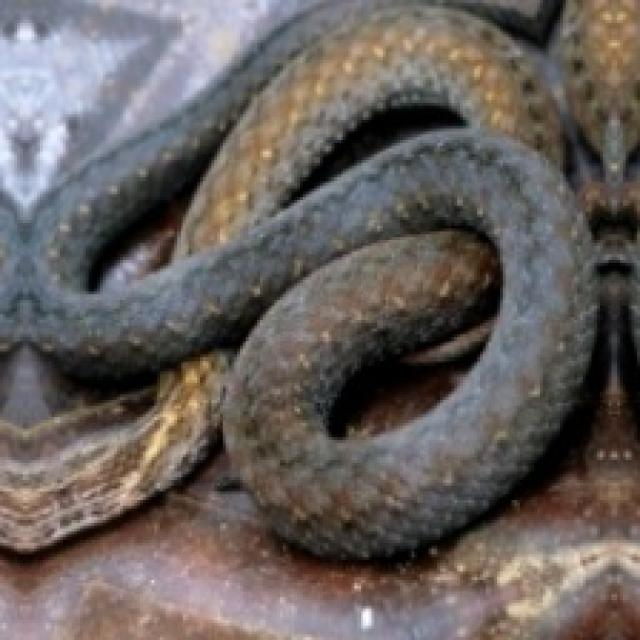reinhardts lined snake: (0, 3, 594, 554), (283, 106, 557, 266)
